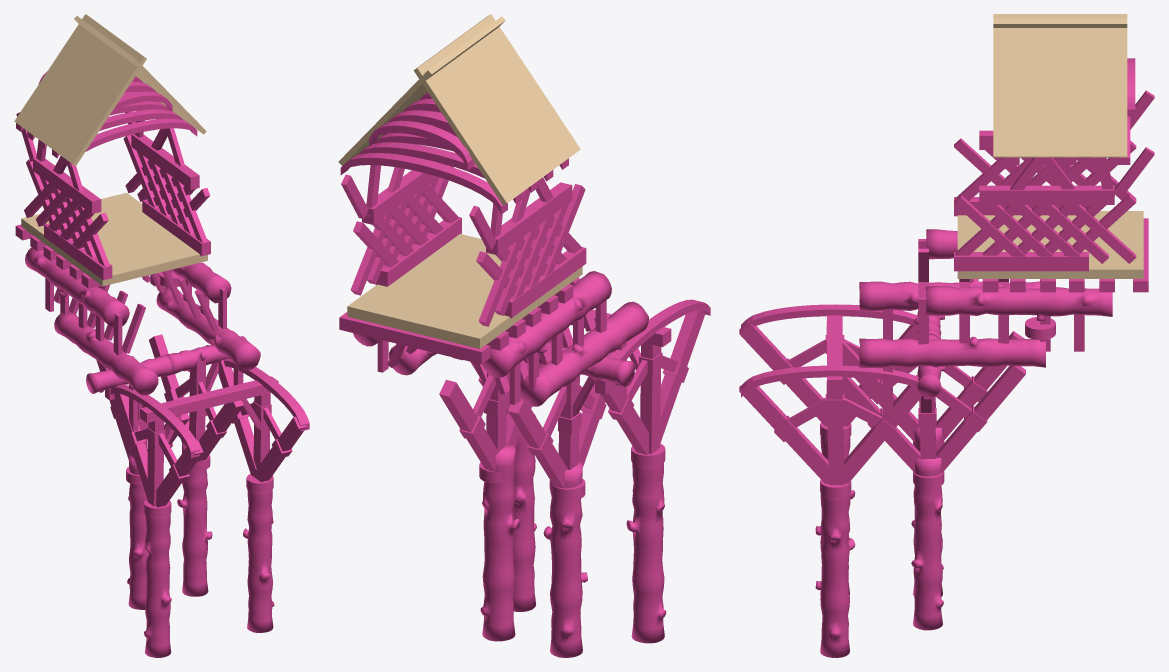
File: pont.fbx
3 renders of one model, left to right at view 1: azimuth 30°, elevation 25°; view 2: azimuth 150°, elevation 25°; view 3: azimuth 270°, elevation 25°, orthographic. The views are drawn at different scales.
Parts seen in each view (by area): view 1: Cube.002, tronc_grand_low.002, Cube, tronc_grand_low.005, tronc_grand_low.001, planche-_3m_low.001, tronc_grand_low.004, planche-_3m_low.009, planche-3m_curved_low.001, tronc_moyen_low.002, planche-_3m_low.008, planche-_3m_low.012 (+28 smaller); view 2: Cube.002, tronc_grand_low.005, Cube, tronc_grand_low.002, tronc_grand_low.001, planche-_3m_low.012, tronc_grand_low.004, planche-_3m_low.009, planche-_3m_low.001, planche-_3m_low.008, planche-_3m_low.011, planche-3m_curved_low.006 (+30 smaller); view 3: Cube.001, tronc_grand_low.001, tronc_grand_low.004, planche-_3m_low.001, planche-_3m_low.012, tronc_grand_low.002, tronc_grand_low.005, Cube, planche-3m_curved_low.001, planche-_3m_low.009, planche-_3m_low.008, planche-1m80_low.008 (+21 smaller).
Boxes of the visible parts, x1,y1,x2,y2 form: Cube.002: (14,14,146,165); tronc_grand_low.002: (144,489,274,657); Cube: (21,192,207,286); tronc_grand_low.005: (127,442,212,609); tronc_grand_low.001: (54,287,260,395); planche-_3m_low.001: (114,359,306,507); tronc_grand_low.004: (25,247,231,327); planche-_3m_low.009: (33,134,199,213); planche-3m_curved_low.001: (110,359,309,457); tronc_moyen_low.002: (86,336,246,393); planche-_3m_low.008: (44,199,210,280); planche-_3m_low.012: (96,334,243,461); Cube.002: (413,14,580,205); tronc_grand_low.005: (480,443,587,657); Cube: (347,234,582,348); tronc_grand_low.002: (513,435,666,643); tronc_grand_low.001: (389,301,648,406); planche-_3m_low.012: (439,339,611,488); tronc_grand_low.004: (353,271,611,377); planche-_3m_low.009: (362,159,572,255); planche-_3m_low.001: (470,310,705,454); planche-_3m_low.008: (376,217,586,318); planche-_3m_low.011: (339,312,490,364); planche-3m_curved_low.006: (340,153,507,214); Cube.001: (993,14,1127,157); tronc_grand_low.001: (859,279,1045,368); tronc_grand_low.004: (925,229,1112,321); planche-_3m_low.001: (739,323,922,483); planche-_3m_low.012: (842,331,1025,473); tronc_grand_low.002: (815,436,855,657); tronc_grand_low.005: (911,427,943,630); Cube: (957,211,1143,278); planche-3m_curved_low.001: (741,304,918,397); planche-_3m_low.009: (979,130,1114,204); planche-_3m_low.008: (954,197,1088,271); planche-1m80_low.008: (954,138,1026,256).
Size of the model in its own units: 7.49 by 3.64 by 12.06.
